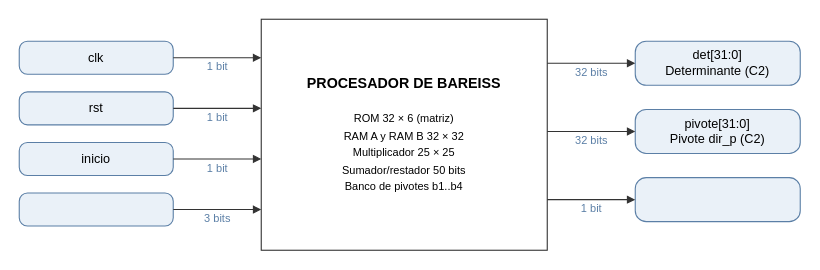
Image size: 820x270. Some labels were removed from this diagram. Each missing label, with the centre of its shape:
"dir_p[2:0]" belongs at point 95,209.
"final" belongs at point 717,199.
